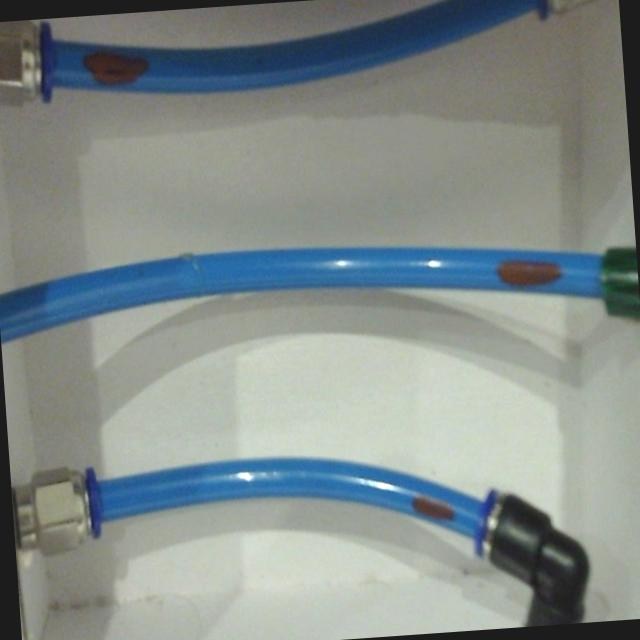hose_damage: (488, 247, 572, 300), (77, 37, 152, 94), (398, 482, 468, 539)
